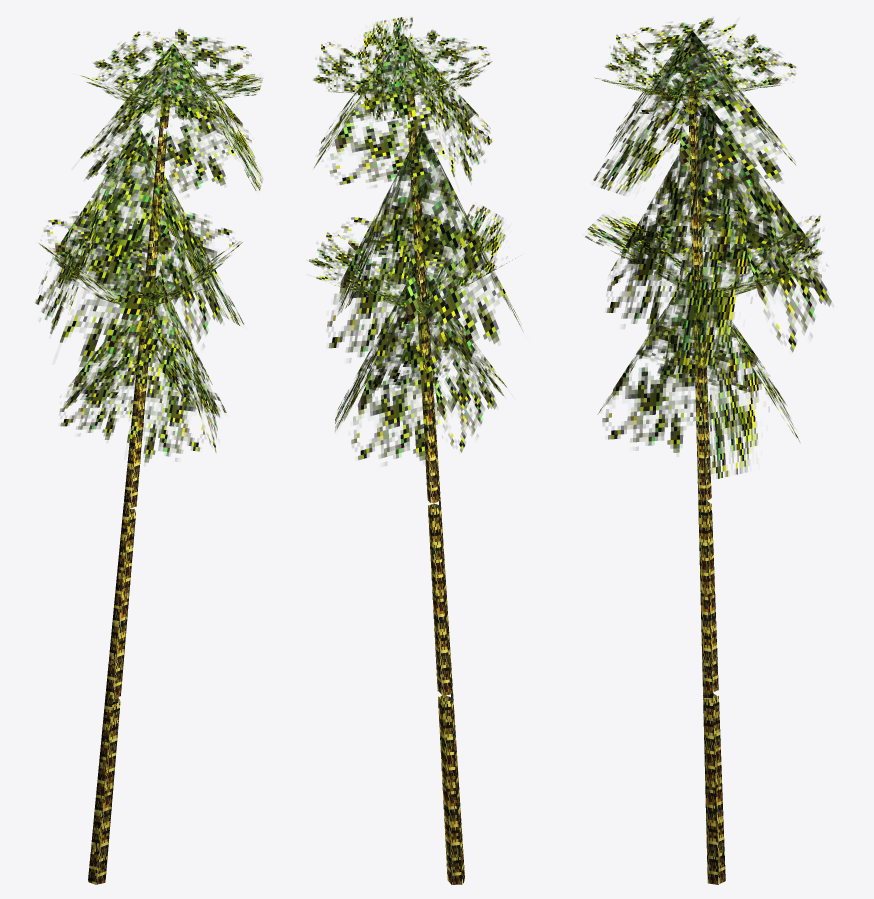
File: Environment - Debris and Ruins - Rubble Mound - Debris - PTXBAMB05.glb
The picture shows the model from 3 angles, left to right: view 1: azimuth 30°, elevation 25°; view 2: azimuth 150°, elevation 25°; view 3: azimuth 270°, elevation 25°; orthographic projection. The views are drawn at different scales.
Visible parts, largest first — view 1: PTXBAMB05; view 2: PTXBAMB05; view 3: PTXBAMB05.
Boxes of the visible parts, box(x1,y1,x2,y2) form: PTXBAMB05: box(35, 29, 262, 884); PTXBAMB05: box(309, 17, 522, 884); PTXBAMB05: box(585, 18, 831, 884).
Size of the model in its own units: 16.7 by 59.86 by 17.45.
1 material, 1 textured.
